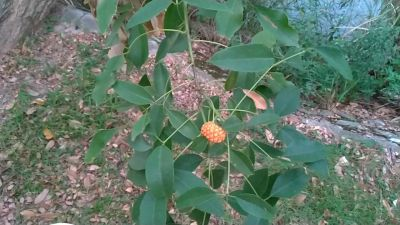eggs: (201, 120, 229, 144)
